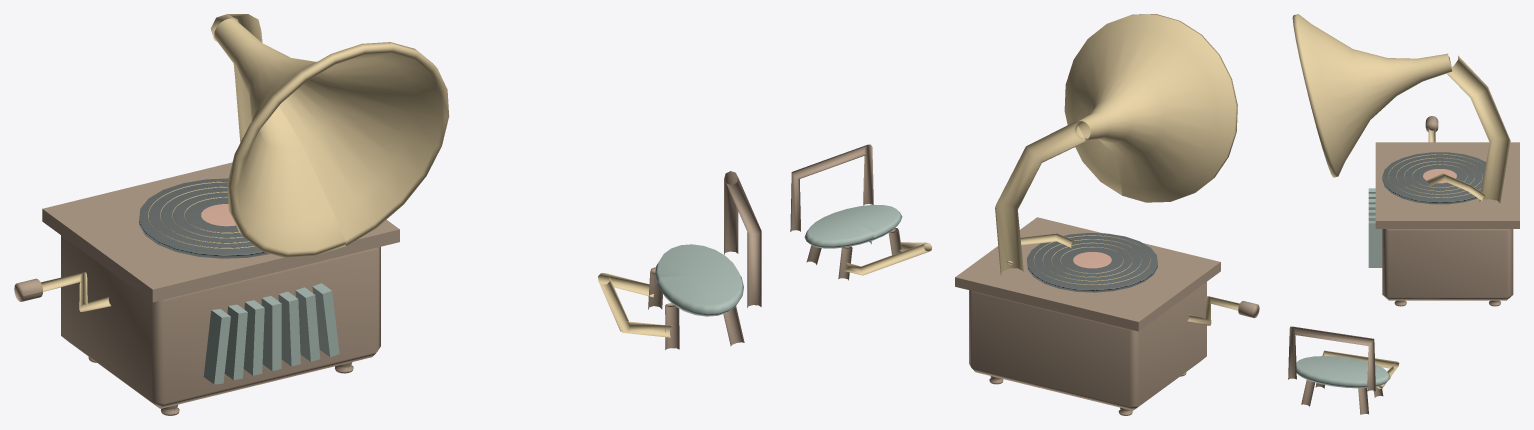
File: music_corner.glb
3 renders of one model, left to right at view 1: azimuth 30°, elevation 25°; view 2: azimuth 150°, elevation 25°; view 3: azimuth 270°, elevation 25°, orthographic. The views are drawn at different scales.
Visible parts, largest first — view 1: Gramophone_Horn, Gramophone_Cabinet, Music_Seat_Frame, Record_Sleeves, Gramophone_Record, Gramophone_Record_Label, Gramophone_Crank; view 2: Gramophone_Horn, Gramophone_Cabinet, Music_Seat_Frame, Gramophone_Record, Gramophone_Record_Label, Gramophone_Crank, Gramophone_Tonearm; view 3: Gramophone_Cabinet, Gramophone_Horn, Music_Seat_Frame, Gramophone_Record, Gramophone_Record_Label, Record_Sleeves, Gramophone_Tonearm, Gramophone_Crank.
Boxes of the visible parts, bbox=[...] form: Gramophone_Horn: bbox=[210, 14, 449, 258]; Gramophone_Cabinet: bbox=[42, 162, 399, 415]; Music_Seat_Frame: bbox=[598, 171, 761, 349]; Record_Sleeves: bbox=[203, 283, 339, 384]; Gramophone_Record: bbox=[139, 178, 269, 258]; Gramophone_Record_Label: bbox=[148, 181, 254, 248]; Gramophone_Crank: bbox=[14, 272, 111, 311]; Gramophone_Horn: bbox=[995, 14, 1237, 275]; Gramophone_Cabinet: bbox=[955, 217, 1220, 415]; Music_Seat_Frame: bbox=[790, 144, 932, 280]; Gramophone_Record: bbox=[1027, 233, 1157, 292]; Gramophone_Record_Label: bbox=[1033, 235, 1151, 284]; Gramophone_Crank: bbox=[1187, 296, 1259, 325]; Gramophone_Tonearm: bbox=[1006, 233, 1074, 264]; Gramophone_Cabinet: bbox=[1375, 142, 1519, 306]; Gramophone_Horn: bbox=[1292, 14, 1510, 203]; Music_Seat_Frame: bbox=[1288, 326, 1399, 414]; Gramophone_Record: bbox=[1382, 152, 1486, 204]; Gramophone_Record_Label: bbox=[1388, 154, 1485, 197]; Record_Sleeves: bbox=[1368, 188, 1382, 267]; Gramophone_Tonearm: bbox=[1426, 173, 1486, 200]; Gramophone_Crank: bbox=[1425, 116, 1438, 142].
Bounding box in the file's own units: 1.93 × 1.1 × 0.8846.
